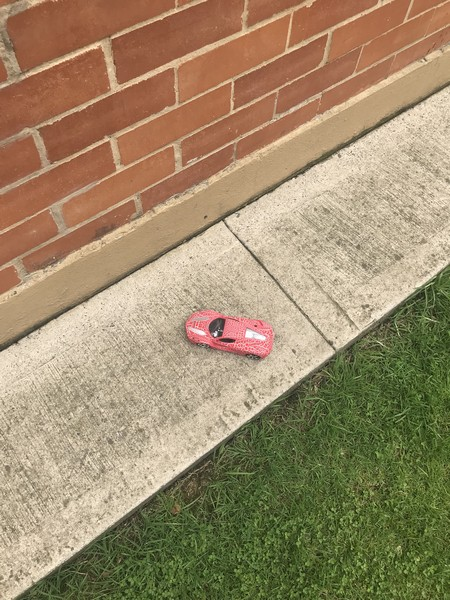RC: (183, 306, 275, 361)
